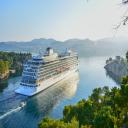cruises: (16, 44, 82, 99)
